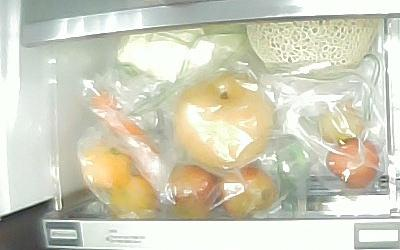cabbage: (116, 25, 243, 82)
carrot_vinyl: (83, 85, 170, 176)
melon: (244, 17, 381, 81)
pear_vinyl: (176, 72, 273, 171)
prune_vinyl: (221, 167, 282, 220), (169, 166, 220, 220), (314, 97, 368, 141)
tangerine_vinyl: (79, 144, 132, 189), (106, 177, 161, 219)
tomato_vinyl: (324, 137, 382, 188)
